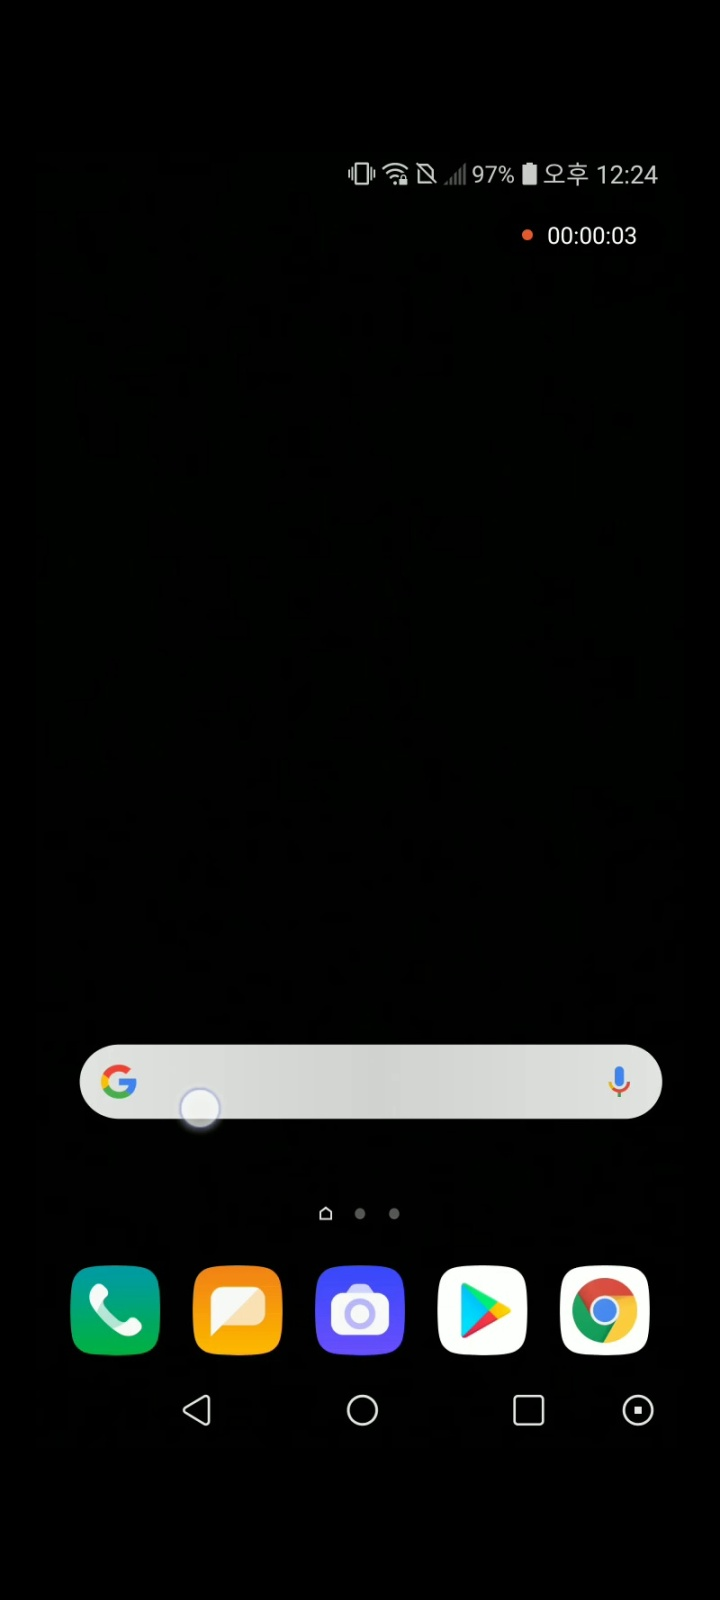Cursor: (178, 1087, 223, 1132)
